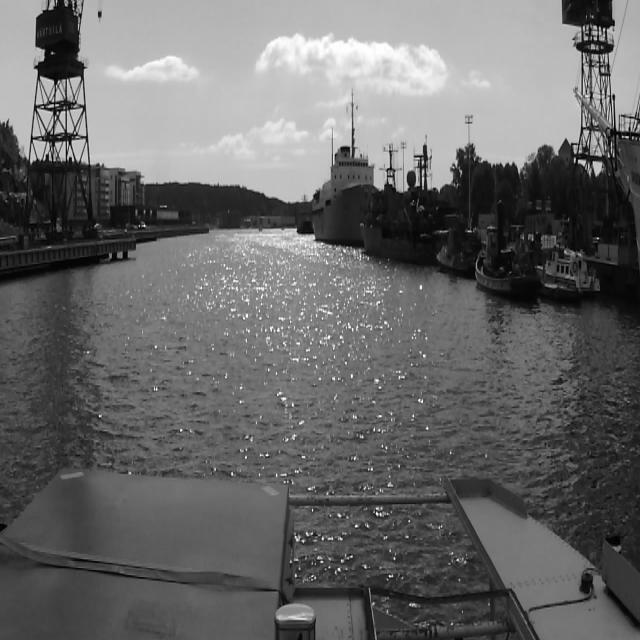ship: (360, 142, 440, 265), (311, 143, 377, 242), (478, 210, 537, 301), (540, 245, 602, 306), (438, 228, 478, 279), (295, 196, 311, 237)
